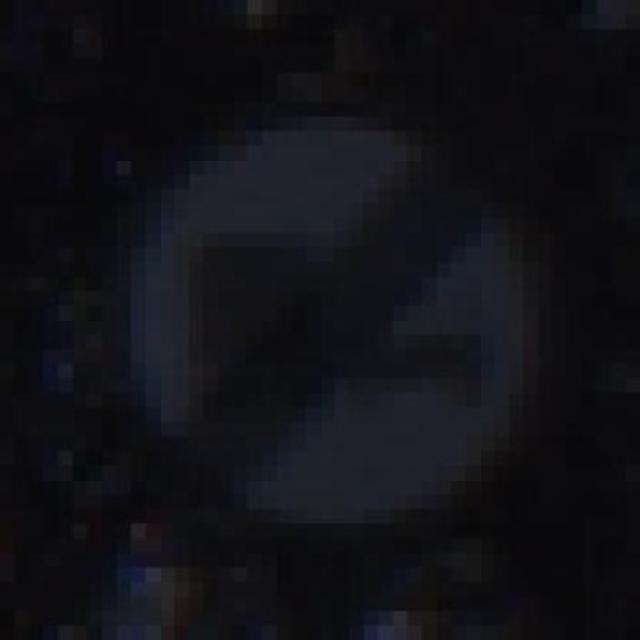Overtaking by trucks is prohibited: (72, 73, 597, 553)
